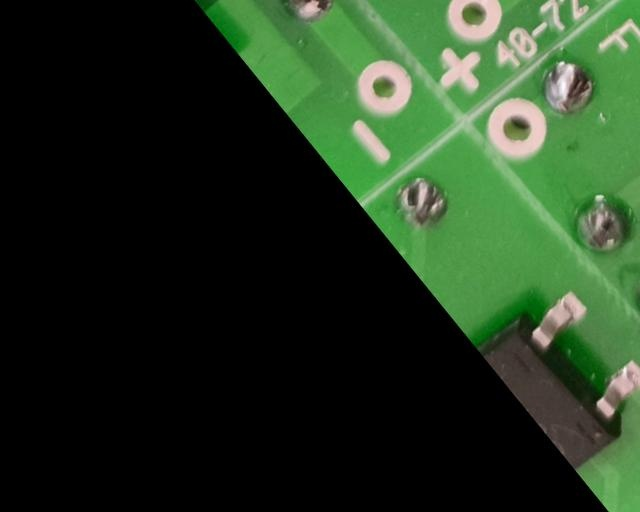ic: (471, 269, 640, 472)
